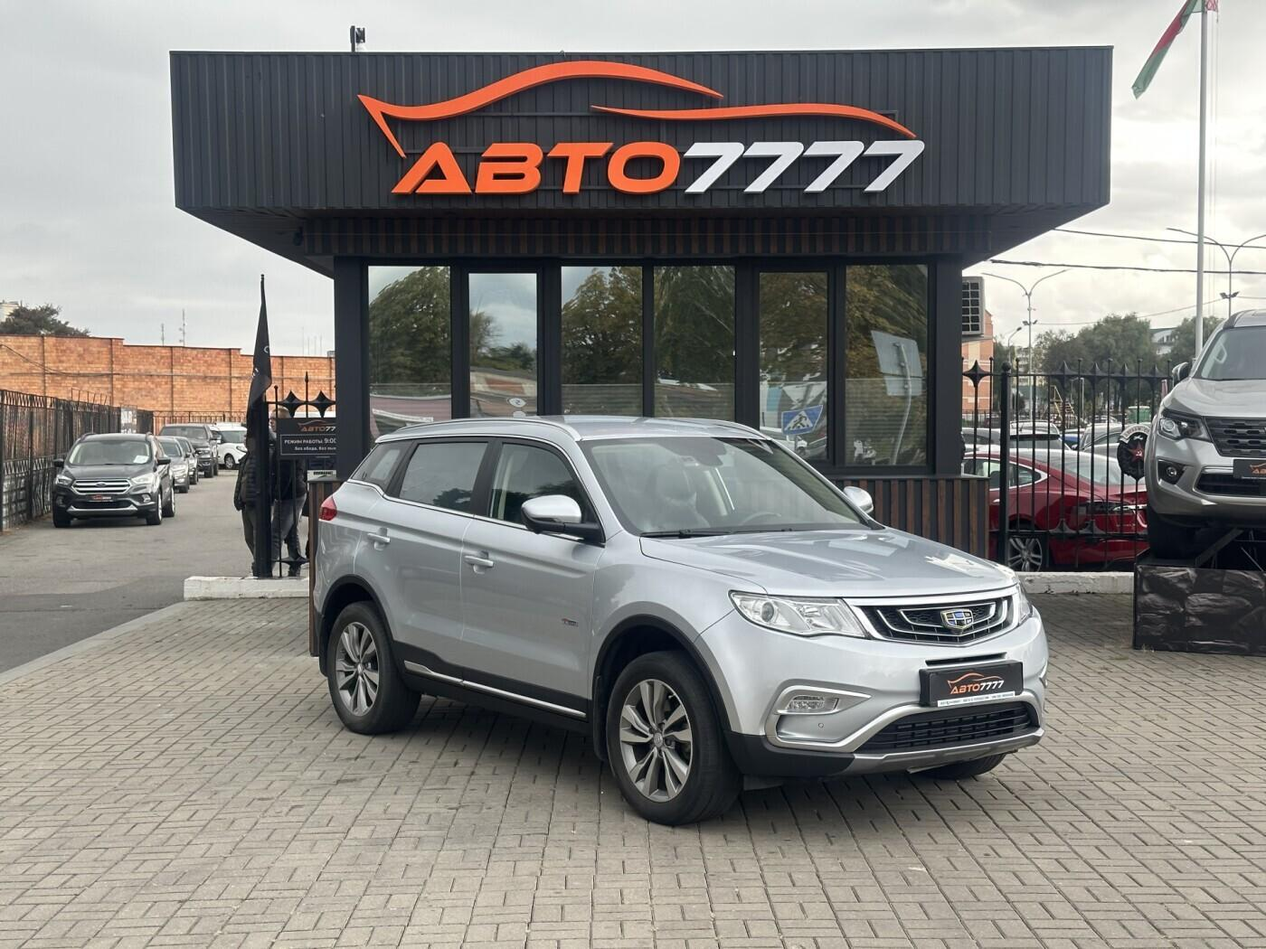Atlas_2016-2023: (306, 412, 1052, 835)
